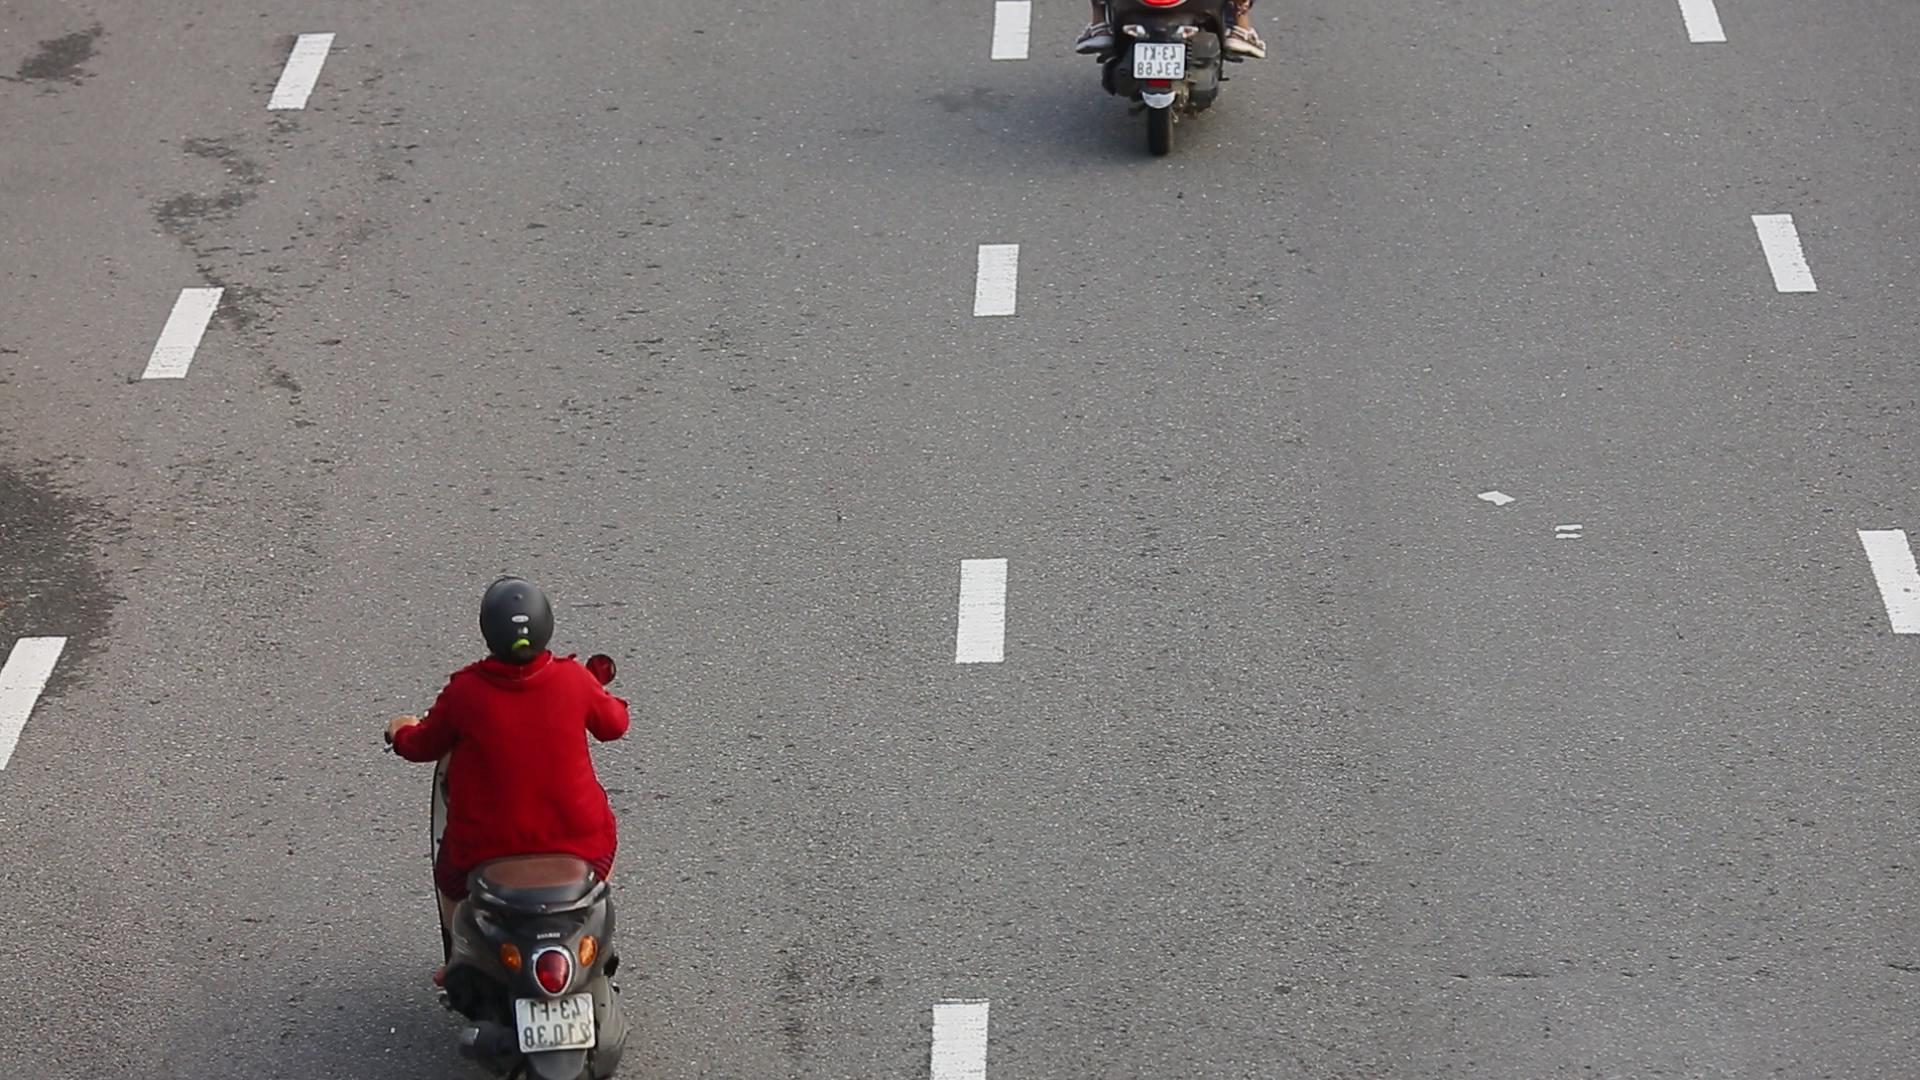motobike: (407, 554, 655, 1080)
